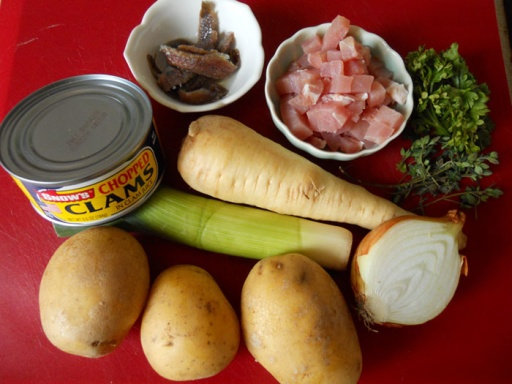background: (30, 24, 403, 230), (108, 8, 326, 92), (74, 0, 191, 63)
